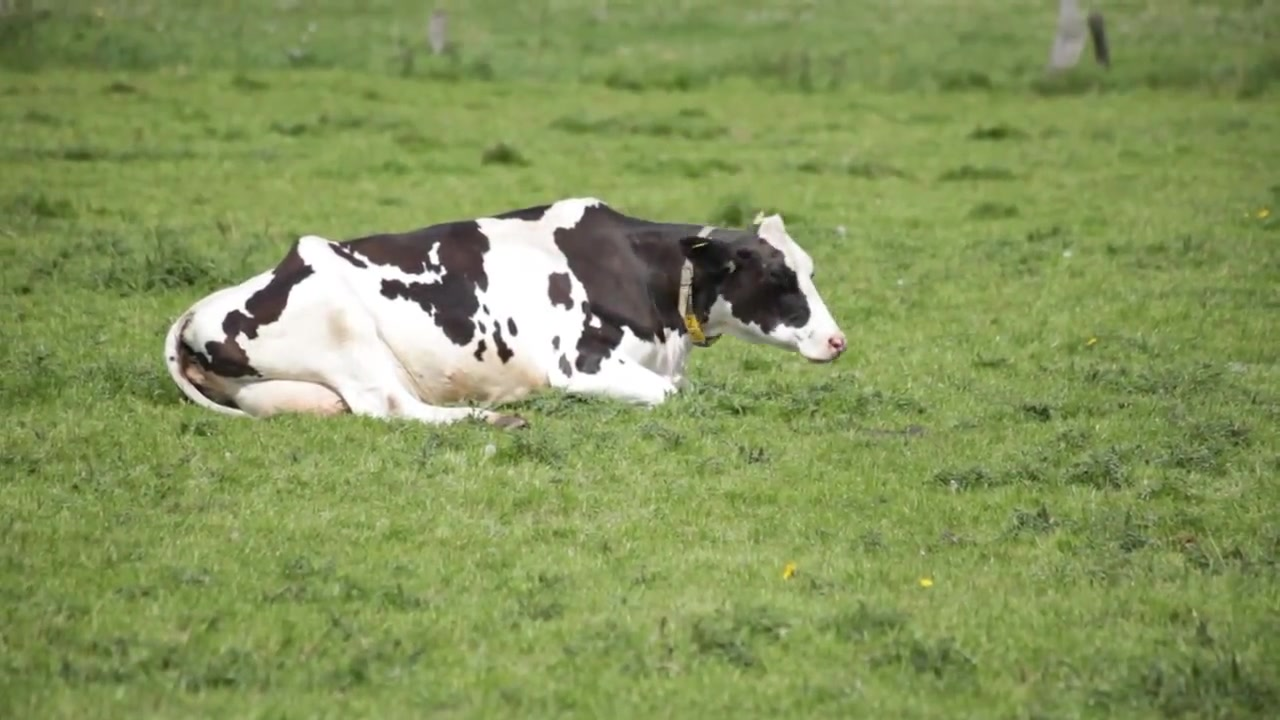cow: (164, 197, 851, 426)
